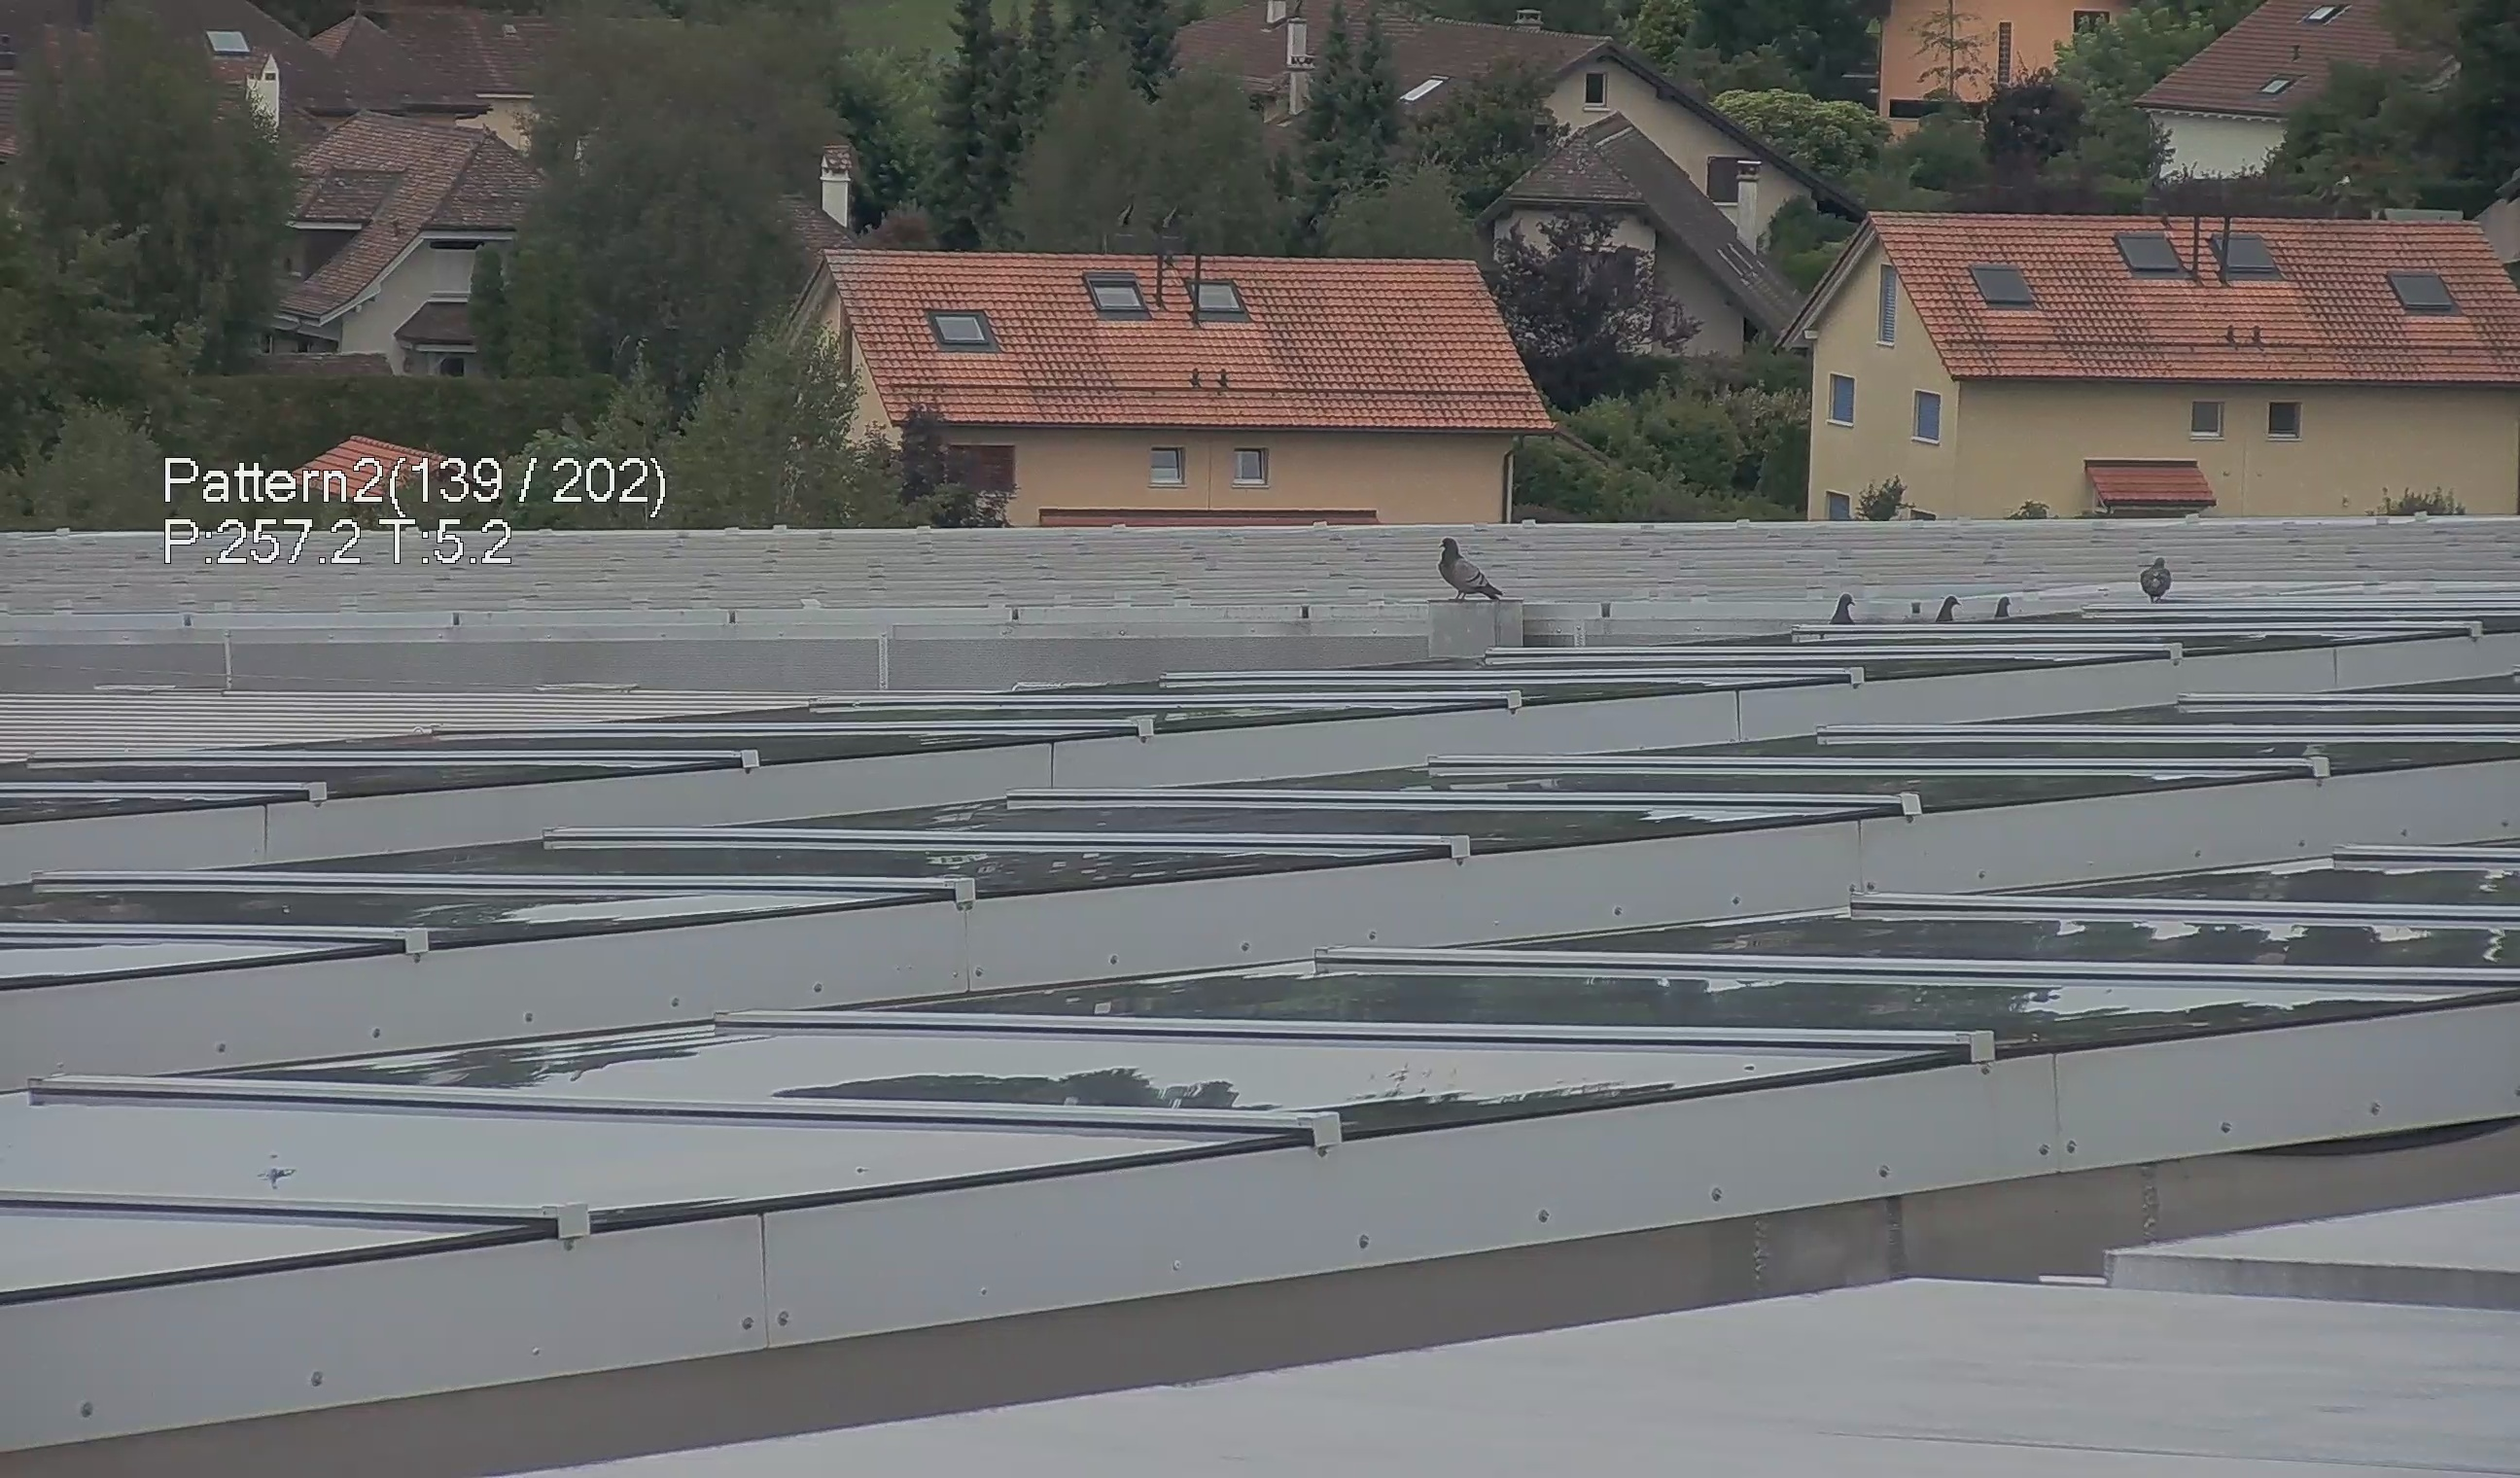Pigeon: (1433, 521, 1516, 621), (2137, 547, 2181, 605), (1927, 593, 1970, 630), (1824, 589, 1861, 628), (1982, 591, 2017, 625)
